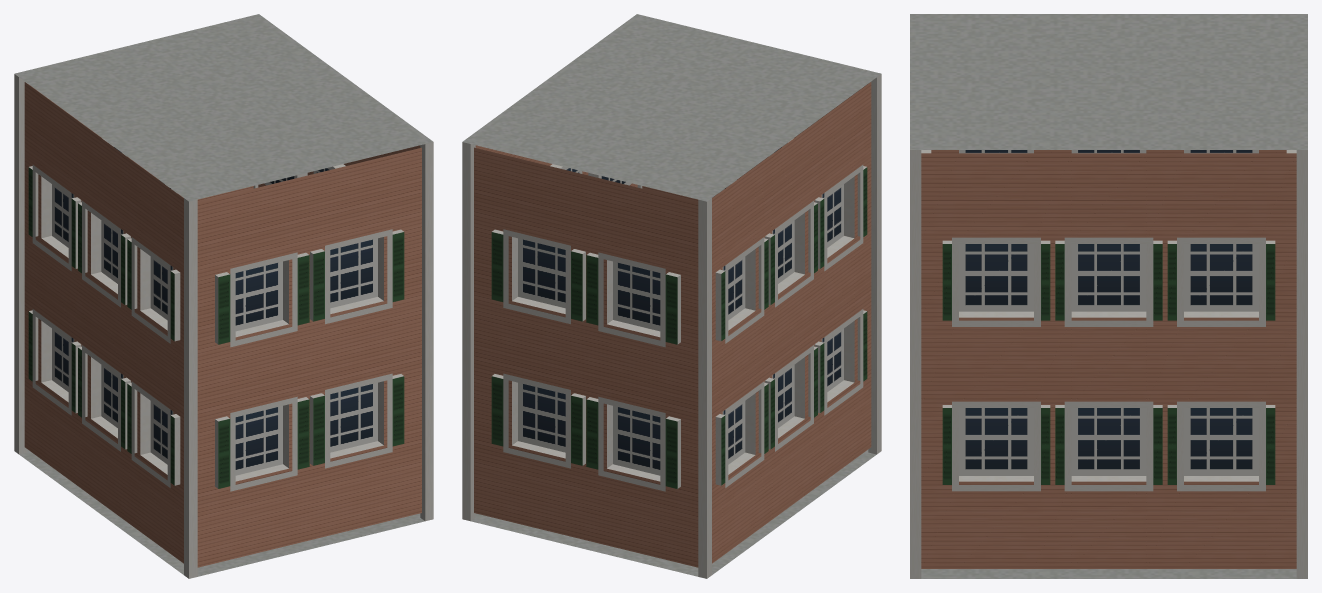
File: bldg-row-clapboard-c.glb
3 views of the same model, side by side, from view 1: azimuth 30°, elevation 25°; view 2: azimuth 150°, elevation 25°; view 3: azimuth 270°, elevation 25° (orthographic). The views are drawn at different scales.
Parts seen in each view (by area): view 1: bldg-row-clapboard-c; view 2: bldg-row-clapboard-c; view 3: bldg-row-clapboard-c.
Part boxes in pixels (x1,y1,x2,y2): bldg-row-clapboard-c: (14, 14, 433, 578); bldg-row-clapboard-c: (462, 14, 881, 578); bldg-row-clapboard-c: (910, 14, 1307, 578).
Bounding box in the file's own units: 1.29 × 1.9 × 1.6.
5 materials, 5 textured.
